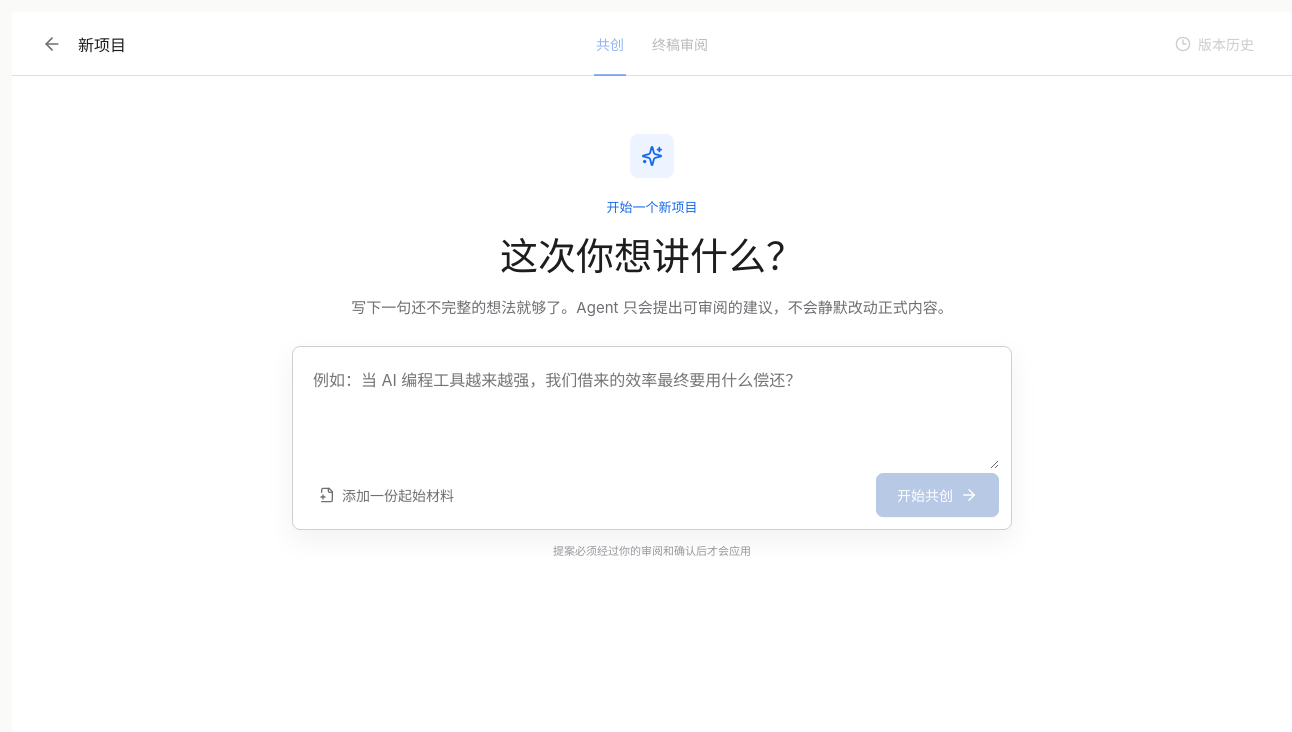
it: Spark to Script runtime surface › keeps the persisted project and blocks run creation when runtime configuration is invalid
Step 1. Type "配置响应必须可信" into the text box named "初步想法" → (652, 414), box x1=305 y1=359 x2=999 y2=469
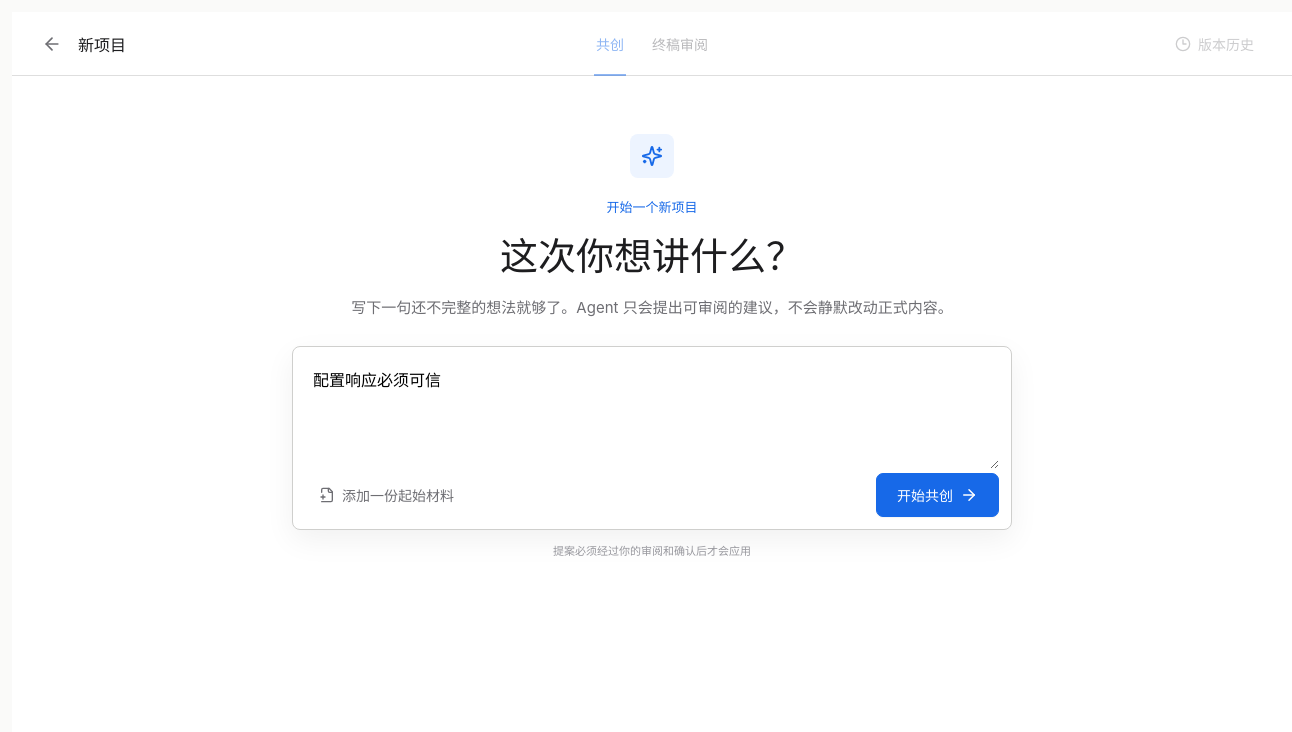
Step 2. Click the button "开始共创" → (938, 495), box x1=876 y1=473 x2=999 y2=517
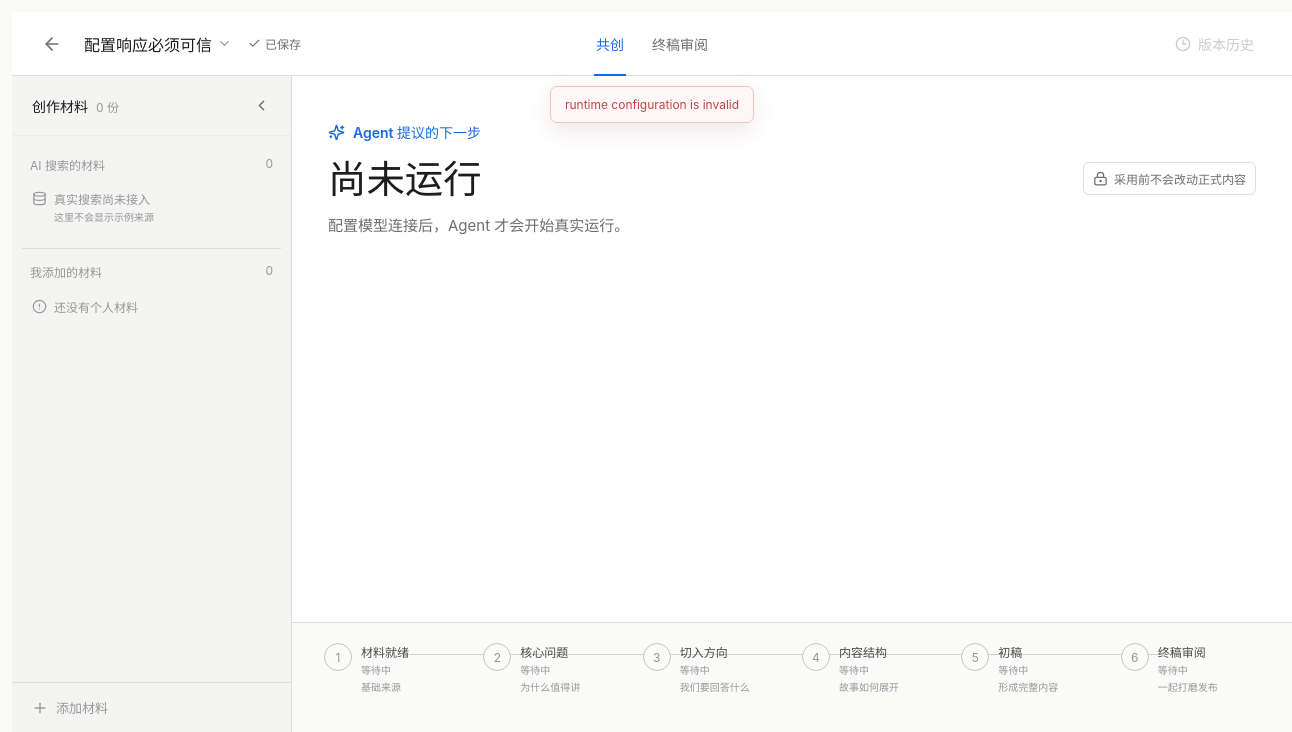
Expected: the message reads "runtime configuration is invalid", x1=565 y1=97 x2=739 y2=112
Expected: the heading "尚未运行" is shown, x1=328 y1=156 x2=482 y2=202
